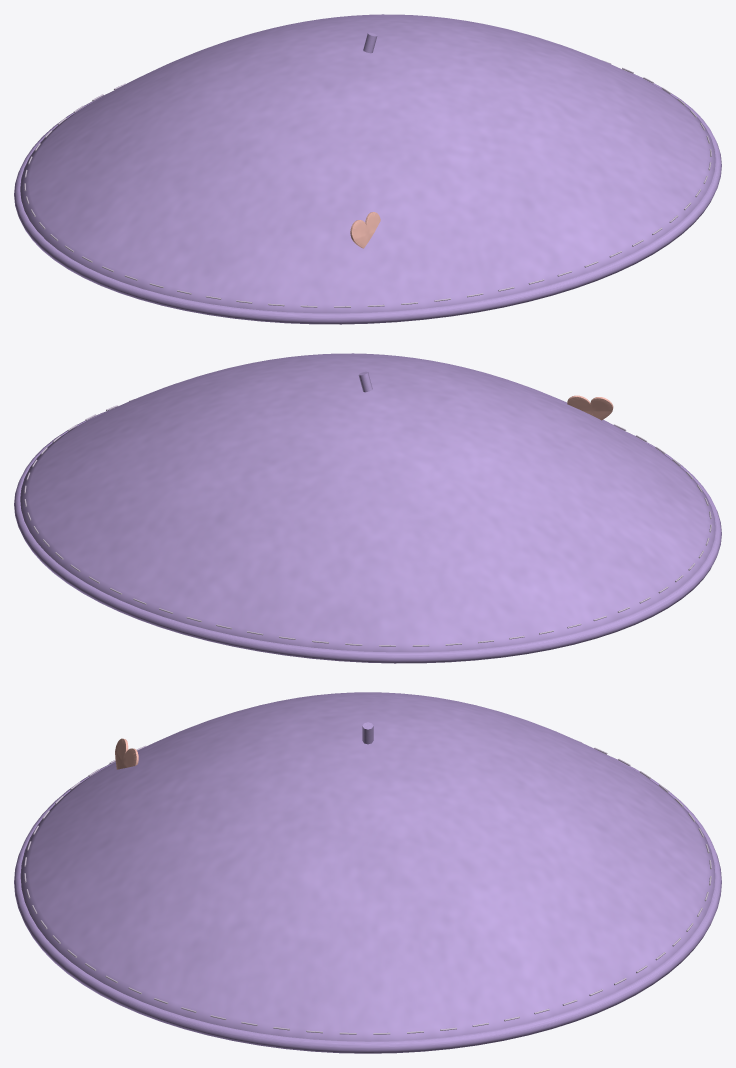
Rendered from experimental_beret_chic_bear_v8.glb.
3 renders of one model, top to bottom at view 1: azimuth 30°, elevation 25°; view 2: azimuth 150°, elevation 25°; view 3: azimuth 270°, elevation 25°, orthographic. The views are drawn at different scales.
Parts seen in each view (by area): view 1: Boina pequeña · fieltro con forro; view 2: Boina pequeña · fieltro con forro; view 3: Boina pequeña · fieltro con forro.
Part boxes in pixels (x1,y1,x2,y2): Boina pequeña · fieltro con forro: (14, 14, 721, 324); Boina pequeña · fieltro con forro: (14, 353, 721, 663); Boina pequeña · fieltro con forro: (14, 692, 721, 1053).
Bounding box in the file's own units: 0.5437 × 0.1251 × 0.4826.
3 materials, 2 textured.
